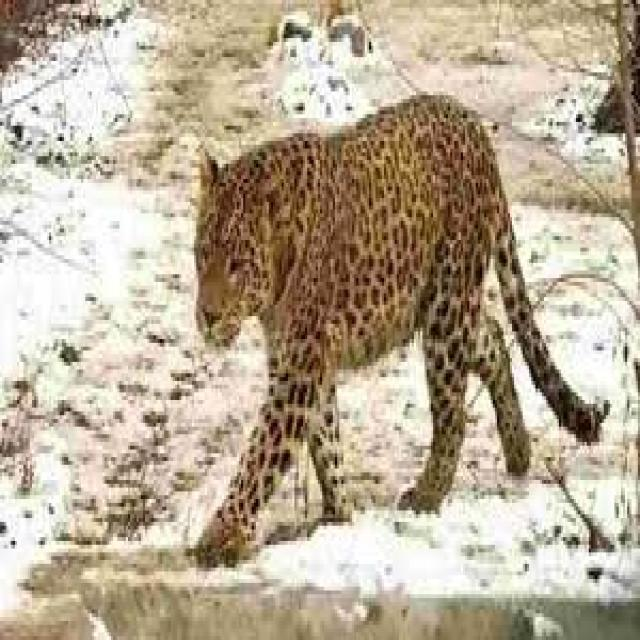Leopard: (188, 104, 524, 527)
